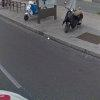Motorcycle: (60, 2, 84, 39)
